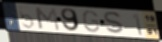1: (131, 13, 144, 37)
5: (17, 5, 36, 30)
9: (60, 8, 82, 34)
G: (82, 10, 101, 34)
M: (33, 6, 62, 32)
S: (102, 11, 127, 36)
